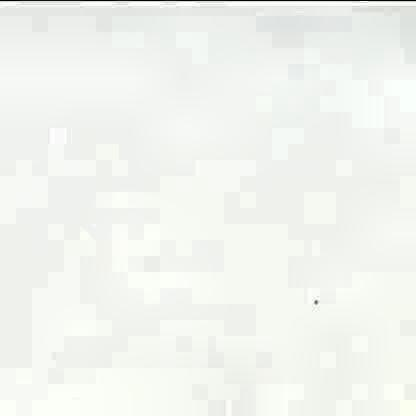golfball: (310, 295, 317, 302)
